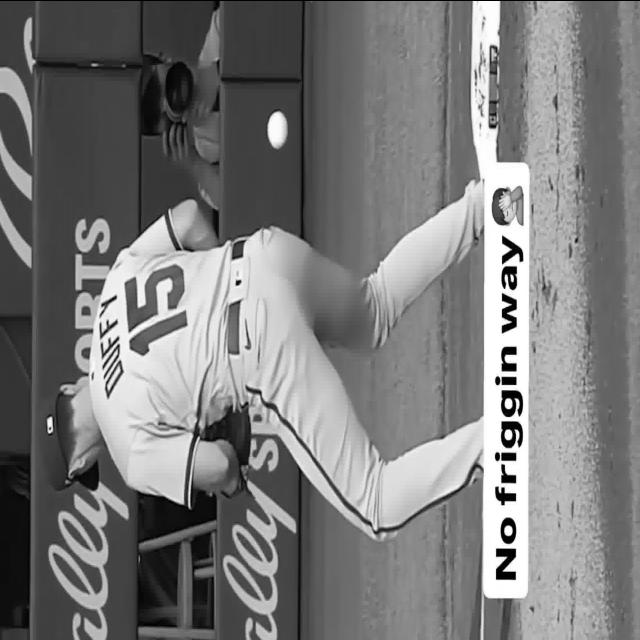base: (470, 0, 500, 178)
baseball: (266, 109, 289, 149)
baseball_glove: (204, 407, 251, 464)
